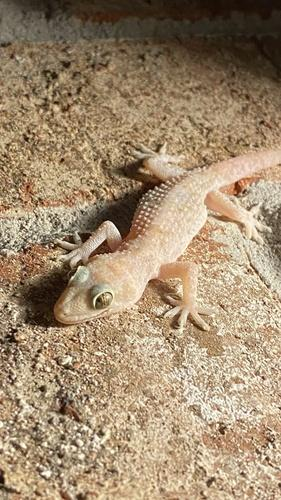lizard: (50, 118, 279, 345)
